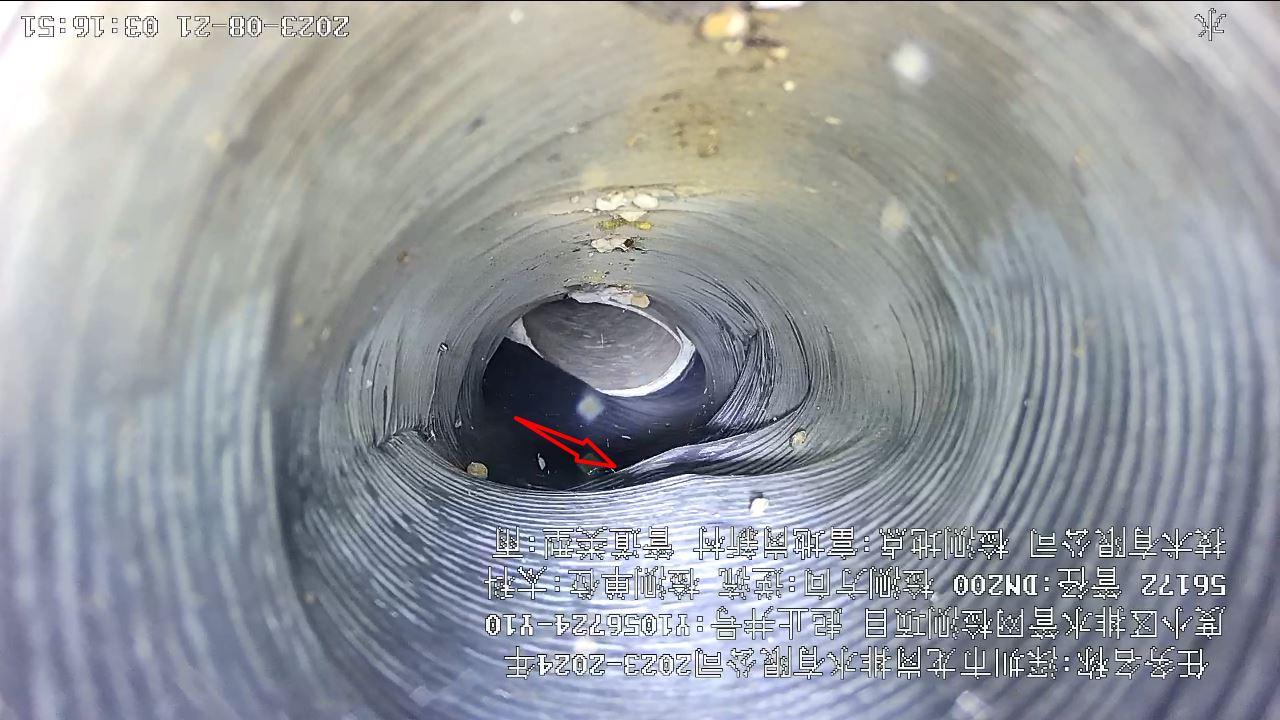BX: (368, 288, 845, 508)
